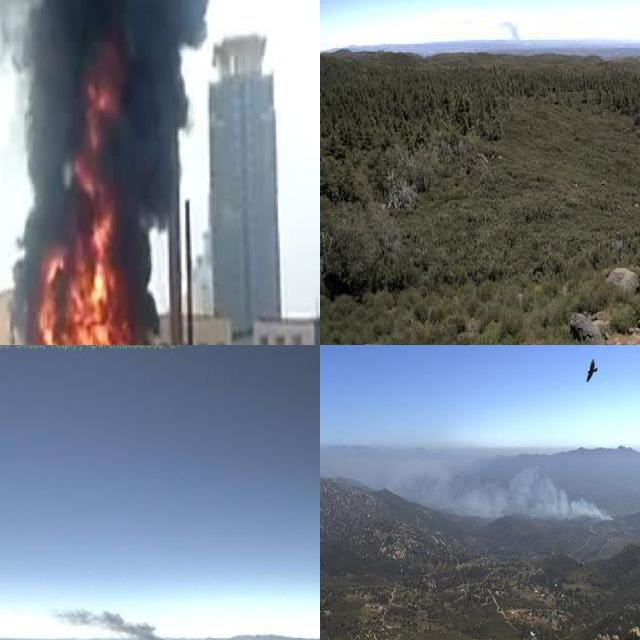fire: (10, 33, 154, 345)
smoke: (0, 0, 214, 311), (353, 446, 612, 522), (53, 603, 179, 640), (497, 16, 524, 48)
